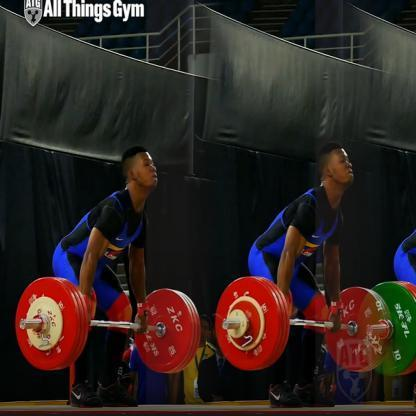barbell: (14, 273, 201, 375), (213, 271, 392, 373), (369, 280, 416, 378)
